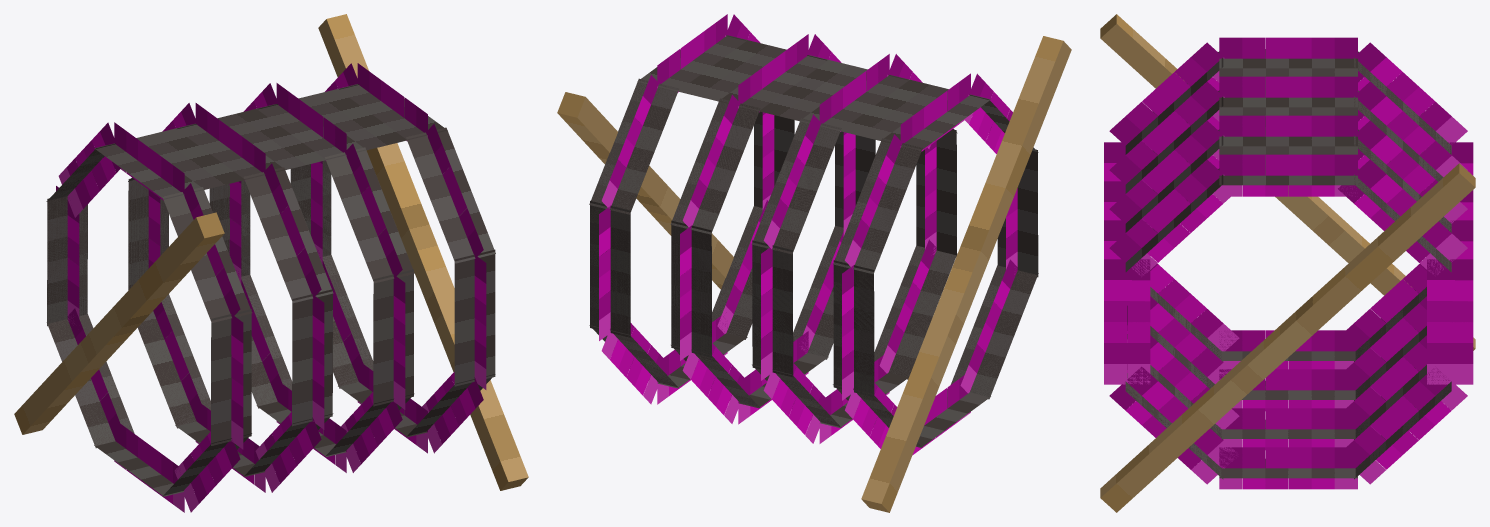
Rendered from barbed_wire_rad.obj.
3 renders of one model, left to right at view 1: azimuth 30°, elevation 25°; view 2: azimuth 150°, elevation 25°; view 3: azimuth 270°, elevation 25°, orthographic.
Visible parts, largest first — view 1: cube; view 2: cube; view 3: cube.
Boxes of the visible parts, <box> form: cube: <box>14,14,528,512</box>; cube: <box>557,14,1071,512</box>; cube: <box>1100,14,1475,512</box>.
Size of the model in its own units: 1 by 1.03 by 1.02.
